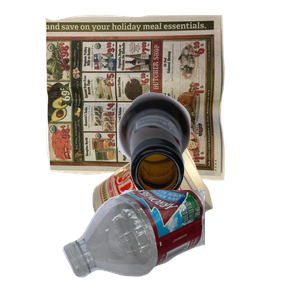glass: (115, 90, 300, 270)
paper: (42, 12, 260, 185)
plastic: (60, 190, 300, 280)
trash: (90, 129, 295, 300)
